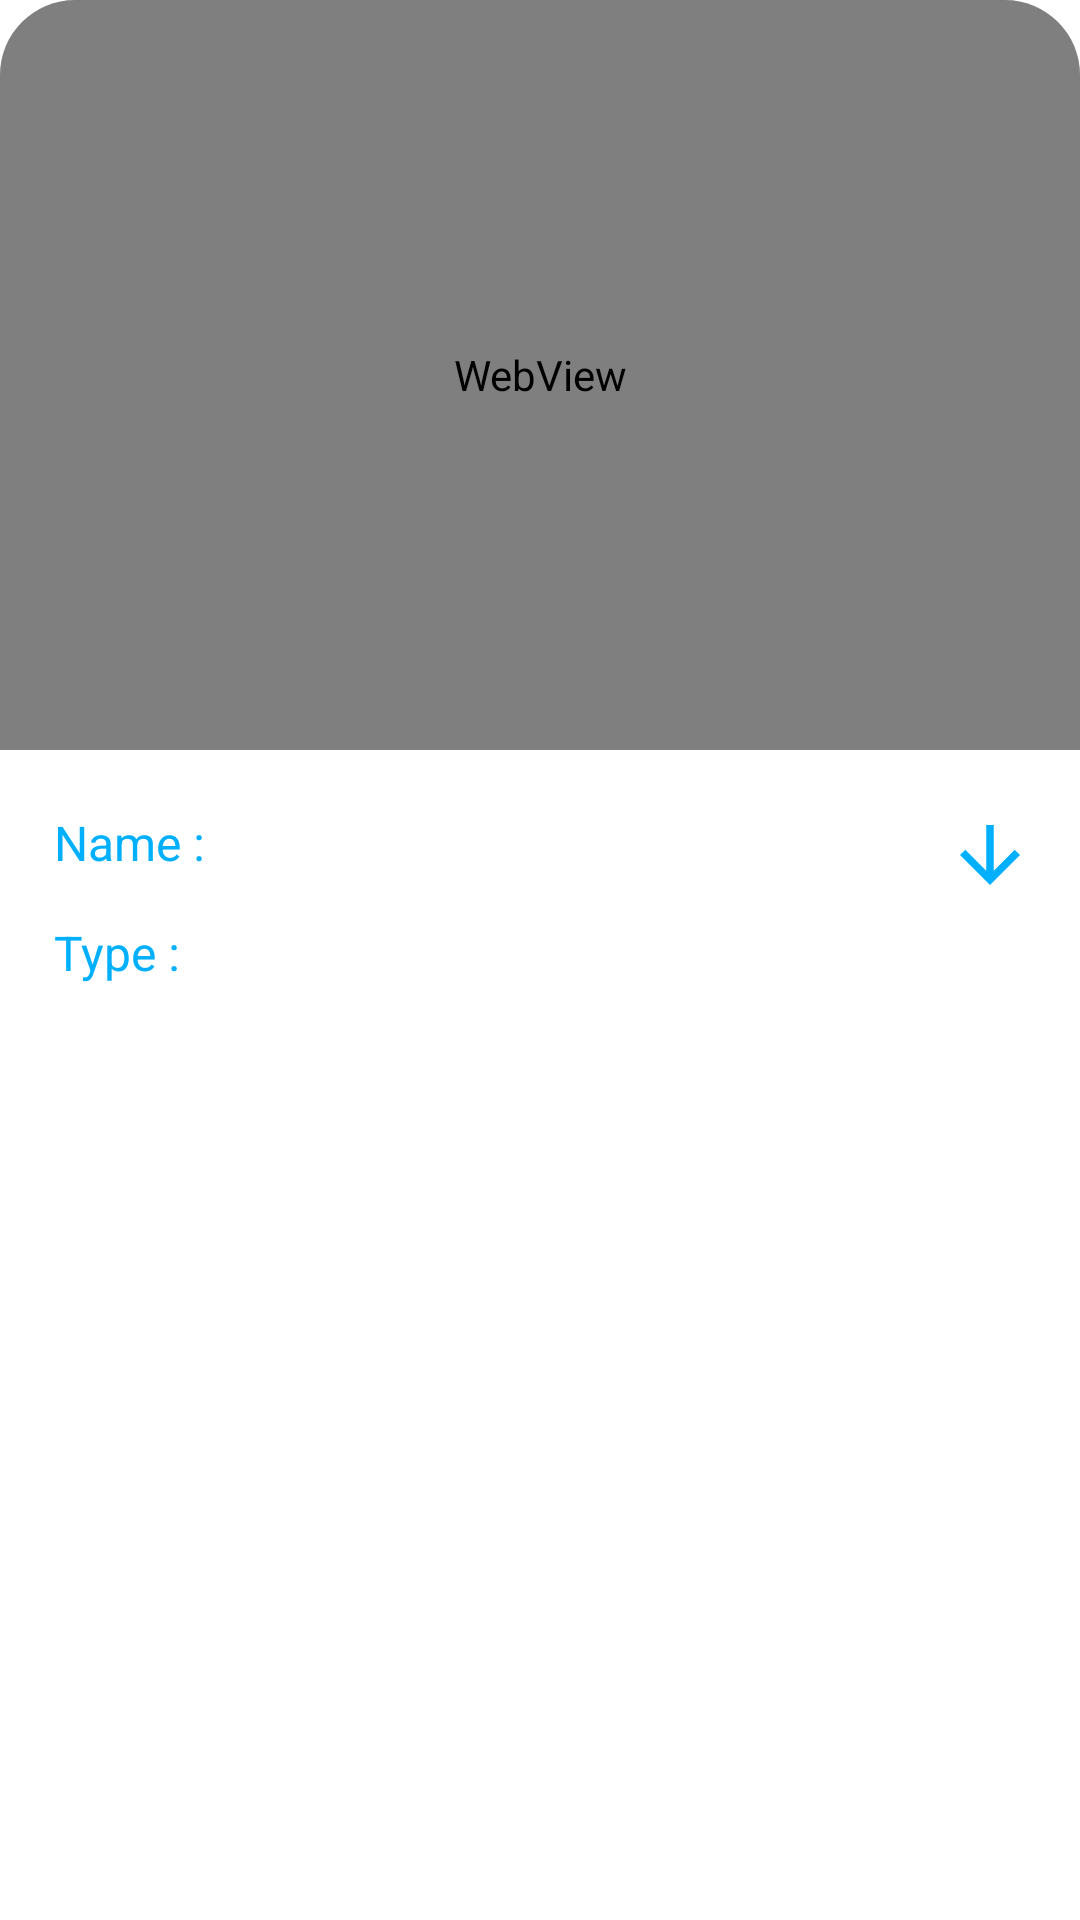

Where icons sit on this 1080*1920 app screen, as (x1, y1, x2, y2):
imagedownload: (960, 825, 1020, 885)
